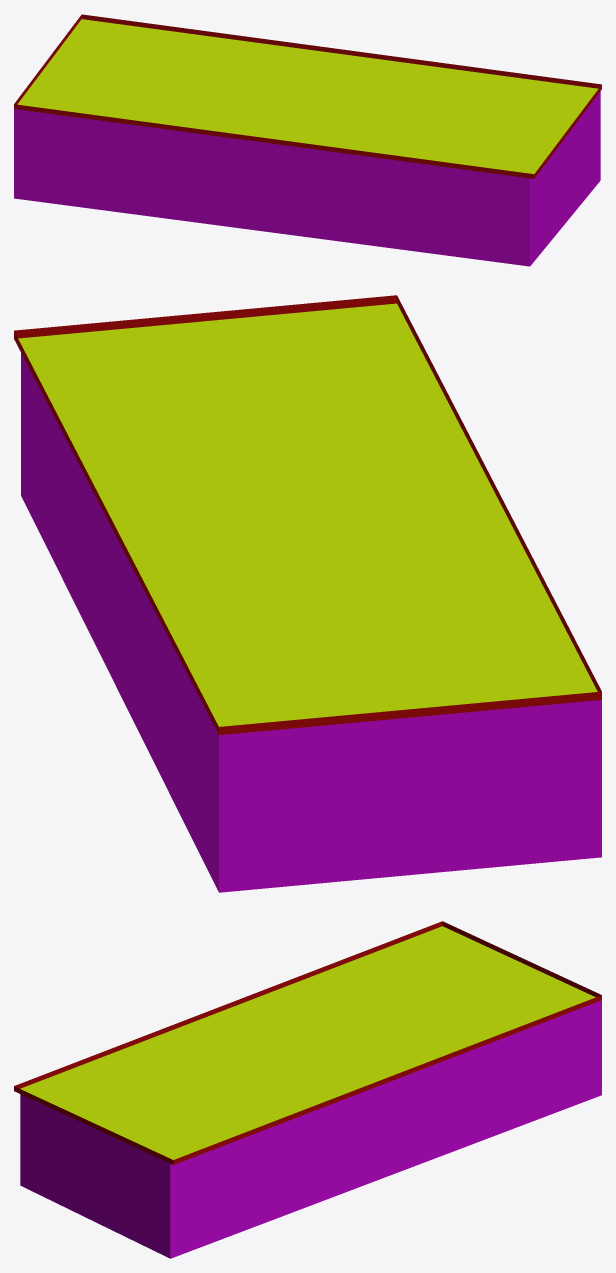
File: bgj_26.glb
3 views of the same model, one above another, from view 1: azimuth 30°, elevation 25°; view 2: azimuth 150°, elevation 25°; view 3: azimuth 270°, elevation 25° (orthographic). The views are drawn at different scales.
Visible parts, largest first — view 1: bgj_26; view 2: bgj_26; view 3: bgj_26.
Boxes of the visible parts, box(x1,y1,x2,y2) form: bgj_26: box(14, 14, 601, 266); bgj_26: box(14, 295, 601, 892); bgj_26: box(14, 921, 601, 1258).
Bounding box in the file's own units: 35.81 × 7 × 37.24.
